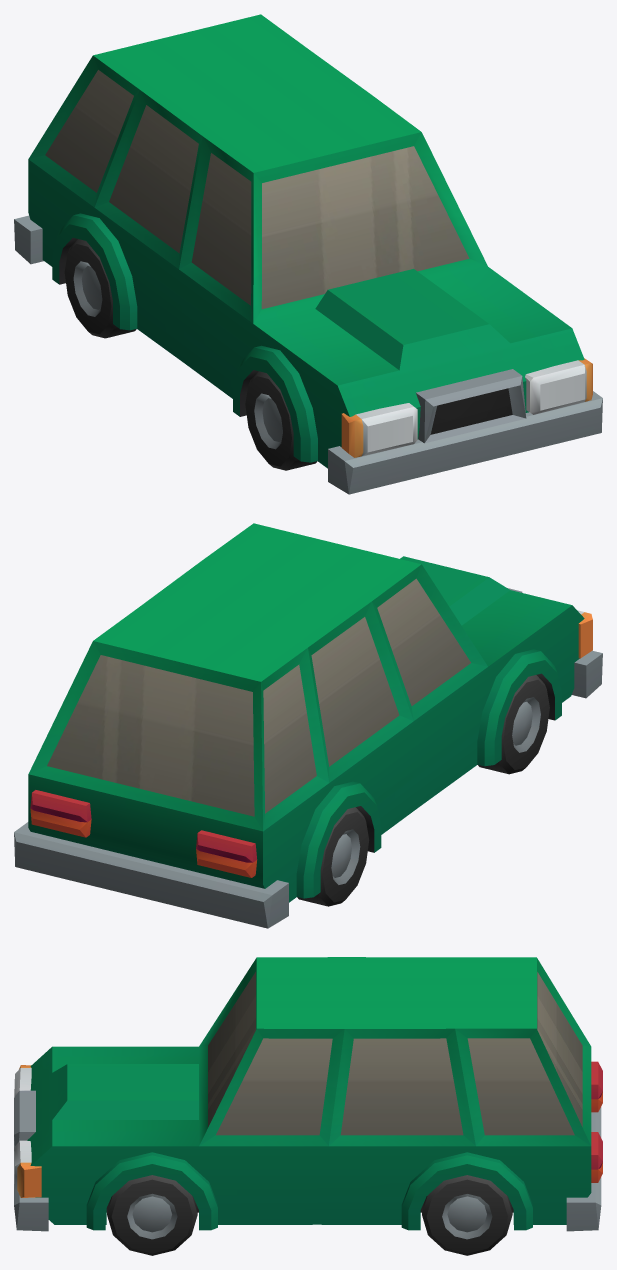
File: kk-car_stationwagon.glb
The picture shows the model from 3 angles, top to bottom: view 1: azimuth 30°, elevation 25°; view 2: azimuth 150°, elevation 25°; view 3: azimuth 270°, elevation 25°; orthographic projection. The views are drawn at different scales.
Parts seen in each view (by area): view 1: Cube.13728, car_stationwagon_wheel_front_right, car_stationwagon_wheel_rear_right; view 2: Cube.13728, car_stationwagon_wheel_rear_right, car_stationwagon_wheel_front_right; view 3: Cube.13728, car_stationwagon_wheel_front_left, car_stationwagon_wheel_rear_left.
Part boxes in pixels (x1,y1,x2,y2): Cube.13728: (14, 14, 602, 494); car_stationwagon_wheel_front_right: (245, 371, 317, 470); car_stationwagon_wheel_rear_right: (64, 239, 136, 338); Cube.13728: (14, 523, 602, 928); car_stationwagon_wheel_rear_right: (297, 807, 369, 906); car_stationwagon_wheel_front_right: (478, 675, 549, 774); Cube.13728: (14, 957, 602, 1231); car_stationwagon_wheel_front_left: (107, 1175, 197, 1255); car_stationwagon_wheel_rear_left: (422, 1175, 512, 1255).
Bounding box in the file's own units: 0.4189 × 0.3688 × 0.9381.
1 material, 1 textured.
